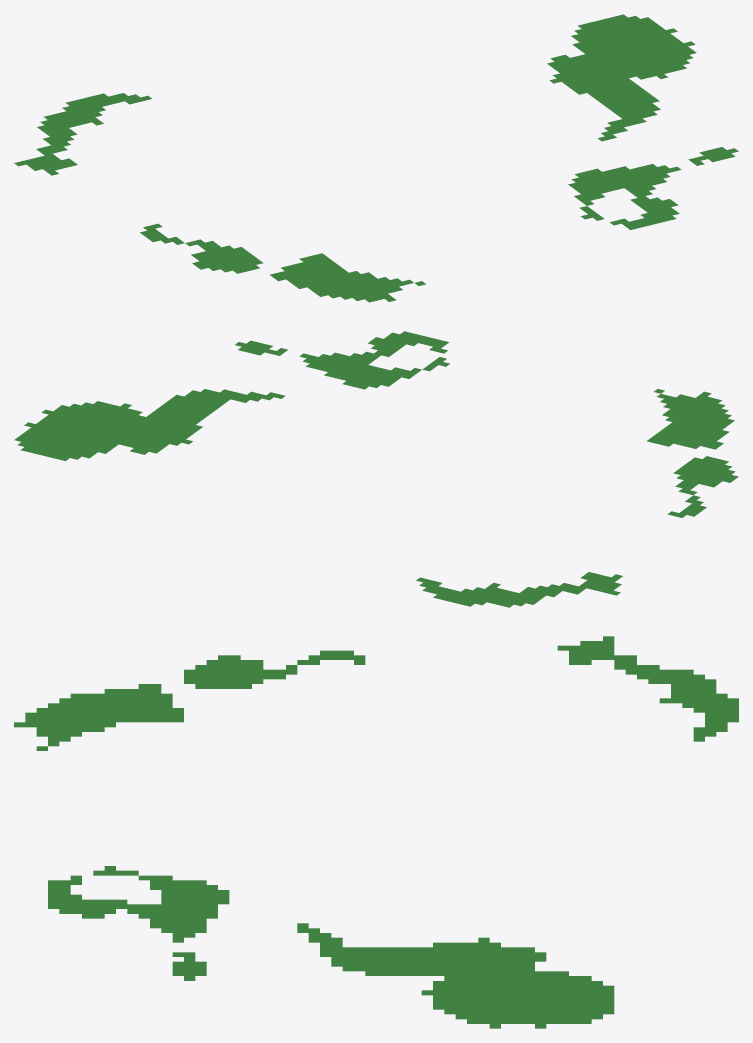
Rendered from Isl-hilly2-TreesArea.fbx.
3 views of the same model, one above another, from view 1: azimuth 30°, elevation 25°; view 2: azimuth 150°, elevation 25°; view 3: azimuth 270°, elevation 25° (orthographic). The views are drawn at different scales.
Visible parts, largest first — view 1: Isl-hilly2-TreesArea; view 2: Isl-hilly2-TreesArea; view 3: Isl-hilly2-TreesArea.
Boxes of the visible parts, x1,y1,x2,y2 form: Isl-hilly2-TreesArea: (14,14,738,302); Isl-hilly2-TreesArea: (14,331,738,607); Isl-hilly2-TreesArea: (14,636,738,1028).
Bounding box in the file's own units: 82 × 0 × 64.
